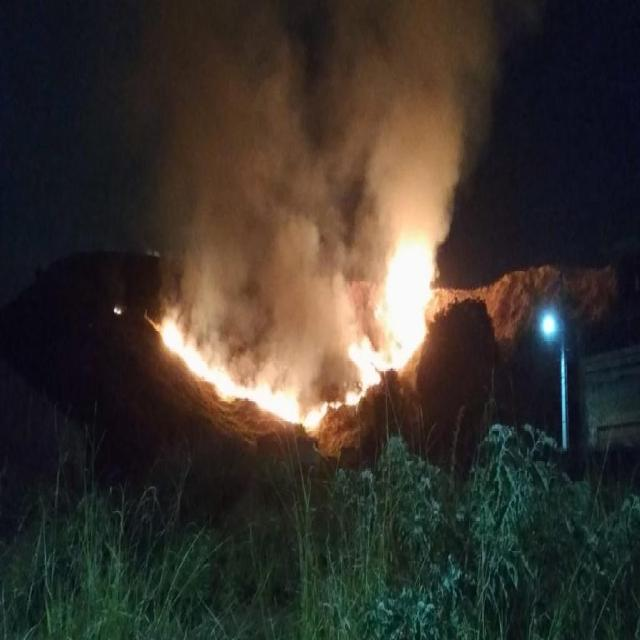fire: (385, 244, 428, 346)
smoke: (198, 114, 347, 344), (362, 44, 447, 230)
